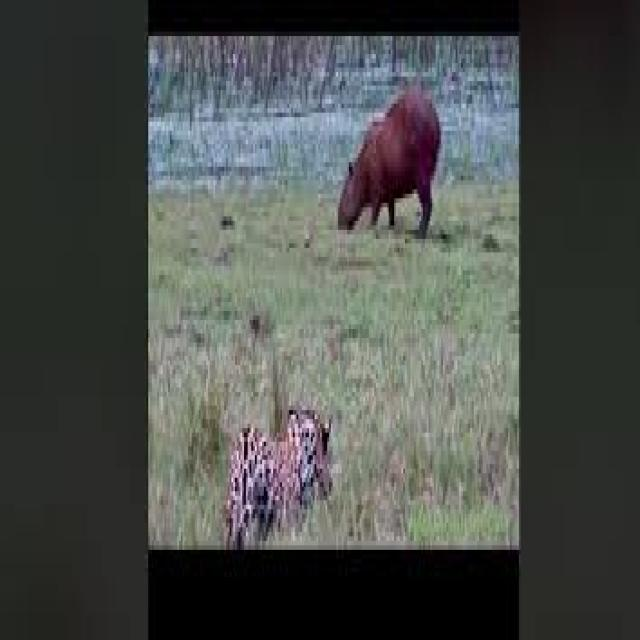capy: (338, 72, 446, 246)
